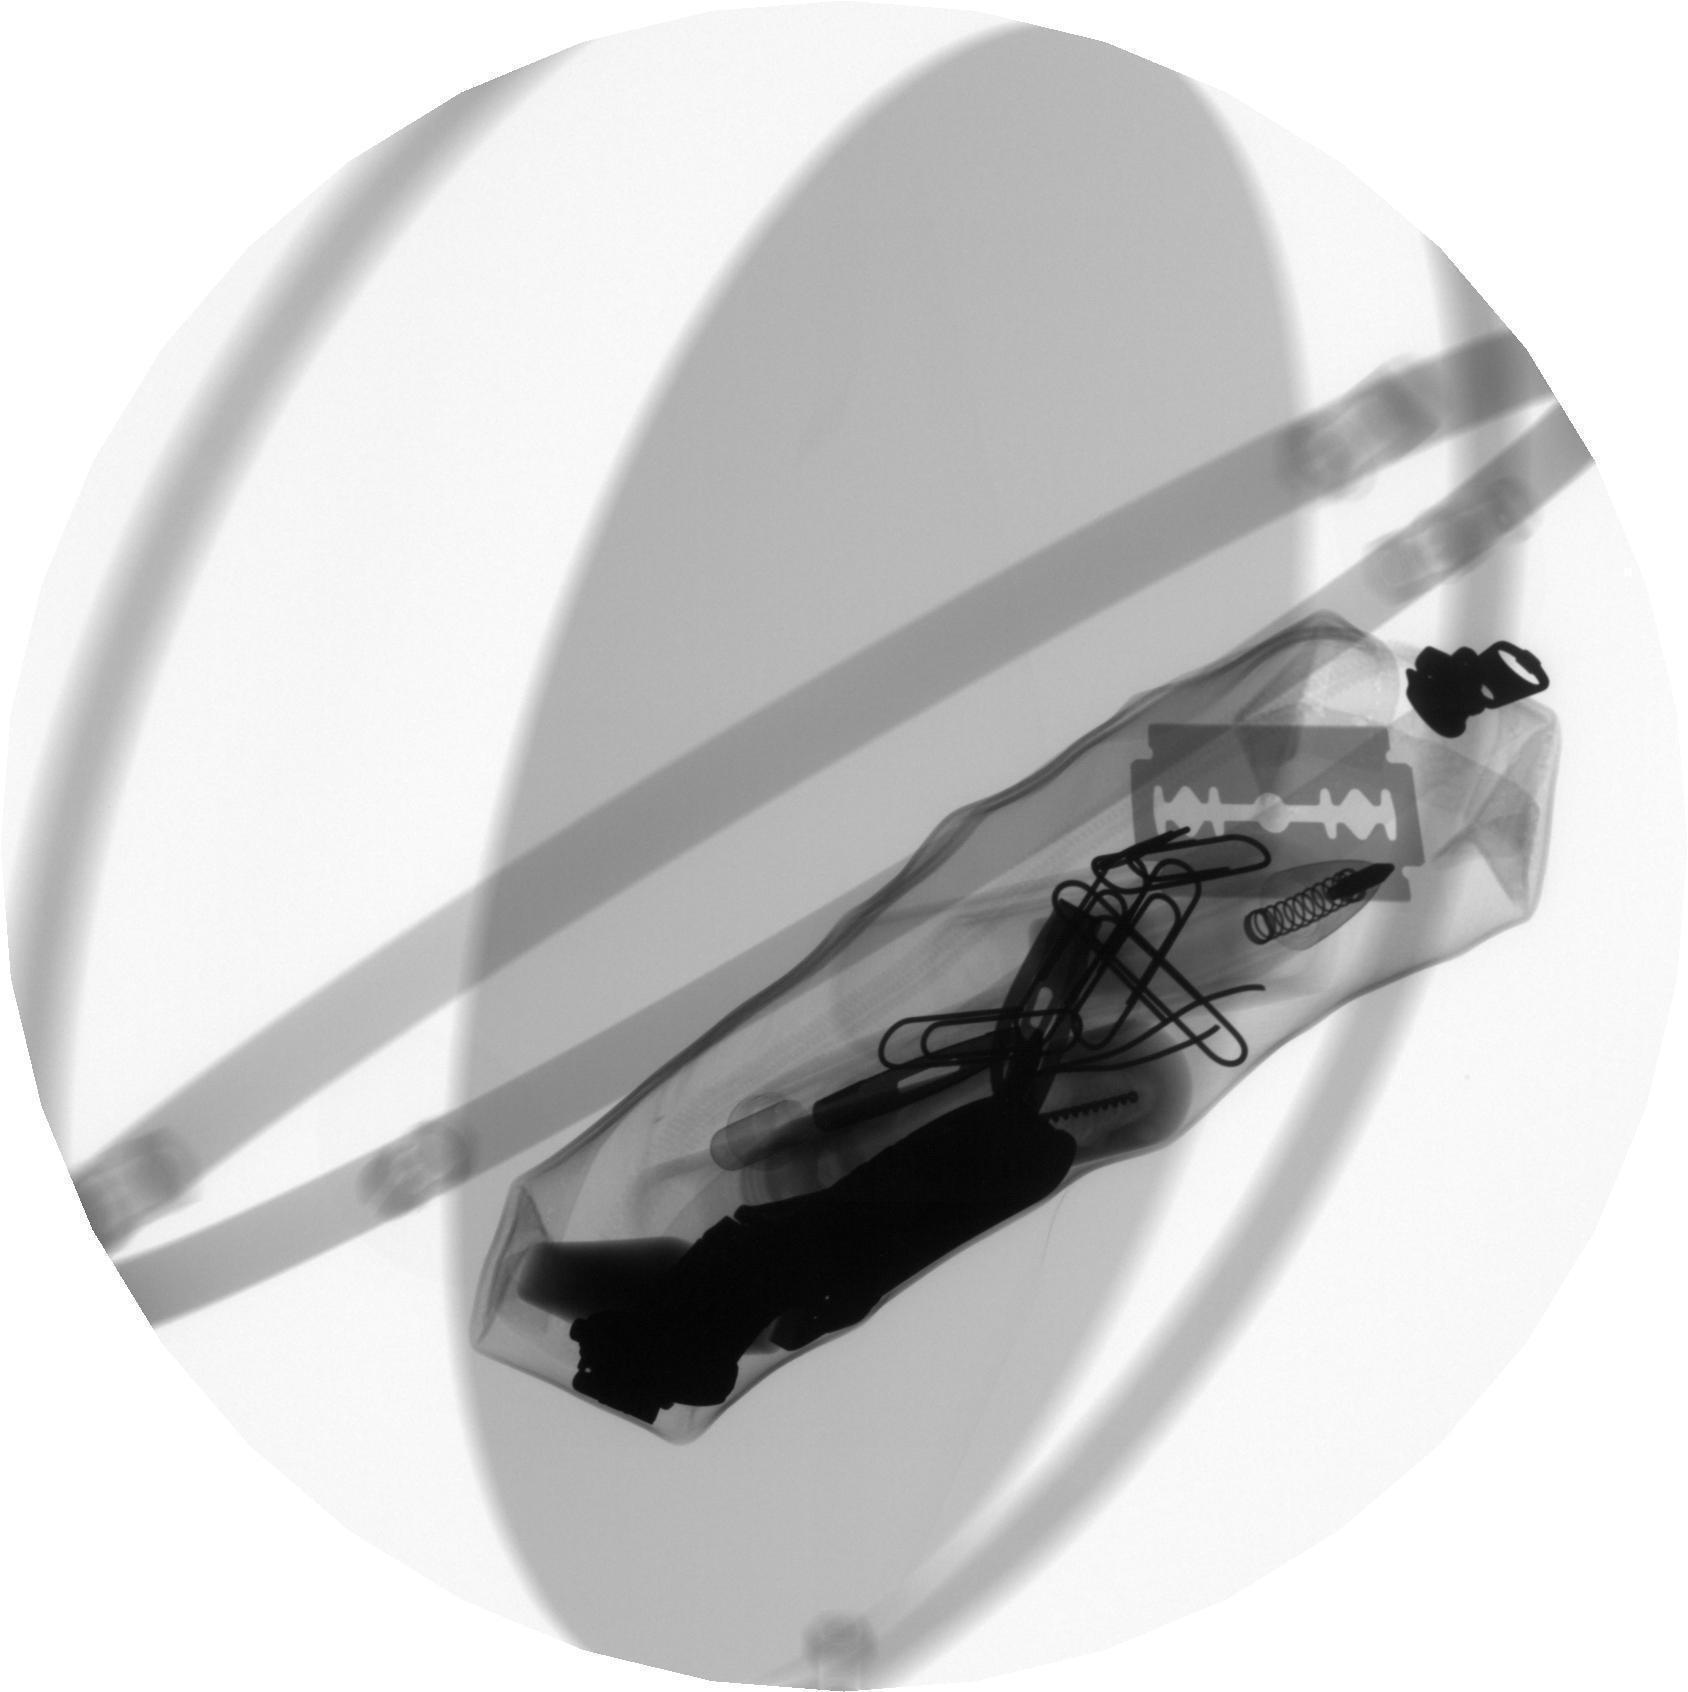RazorBlade: (1122, 715, 1431, 912)
